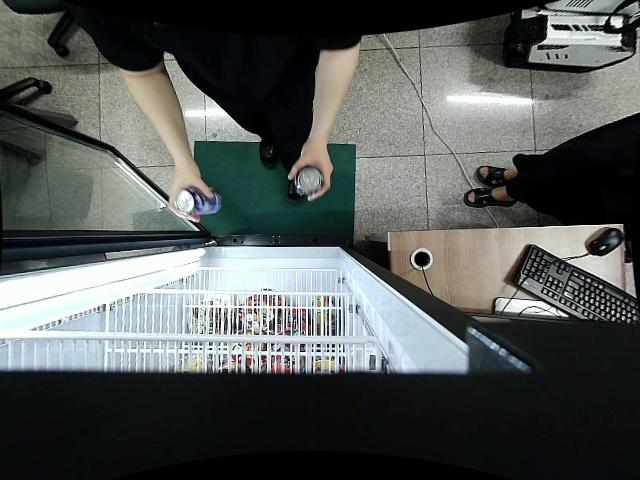00_hand: (167, 157, 213, 223), (286, 143, 335, 202)
14_welchsGrape: (175, 185, 223, 217), (289, 166, 323, 201)
